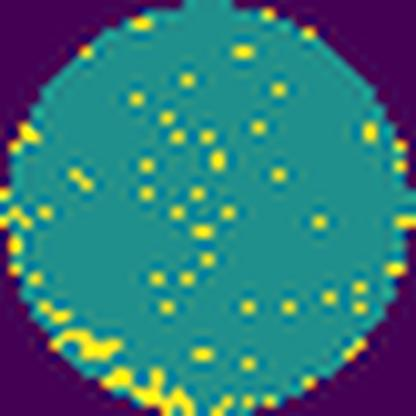Edge-Loc: (95, 360, 202, 415), (51, 326, 131, 362)
